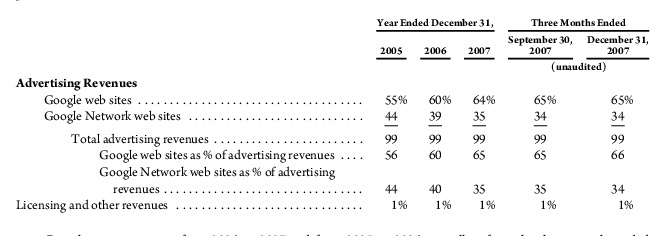table: (0, 0, 663, 236)
